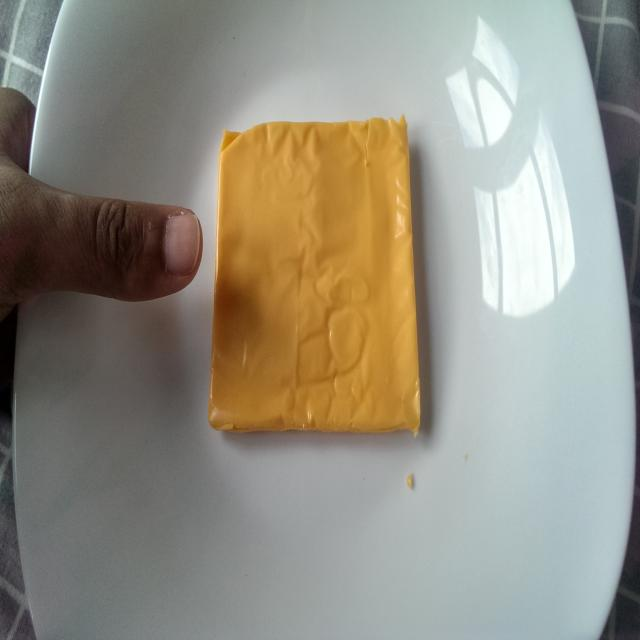cheese: (202, 121, 418, 427)
